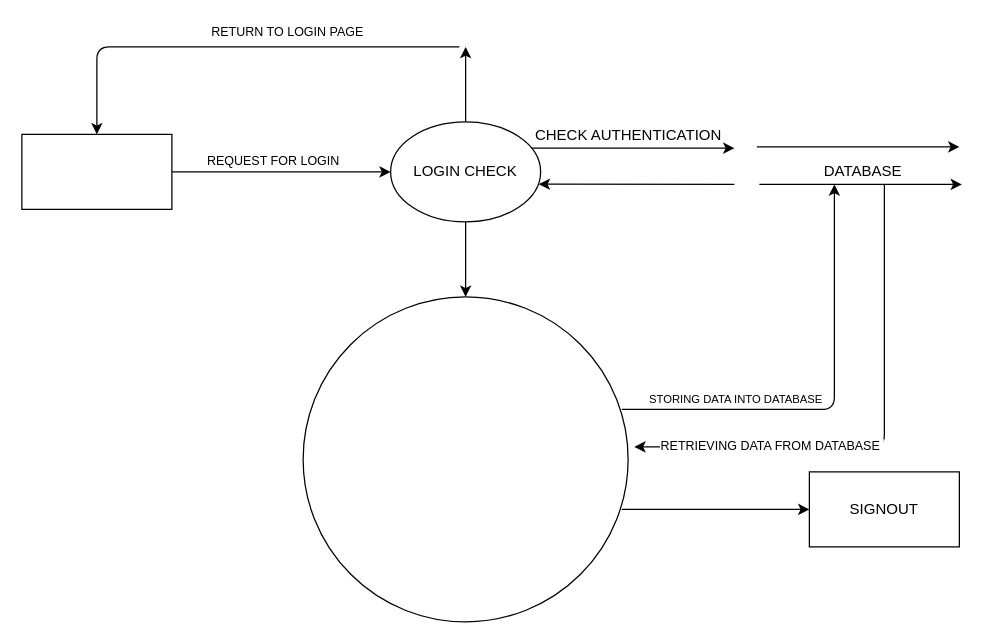
Some shapes in this 994 by 644 pixel diagram are drawn without their labels. Each missing label, with the box of its shape:
View assigned Task Update Status: (302, 296, 628, 622)
Volunteer: (21, 133, 172, 209)
